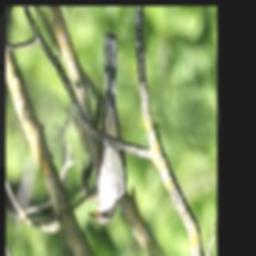Cuckoo: (88, 32, 126, 224)
